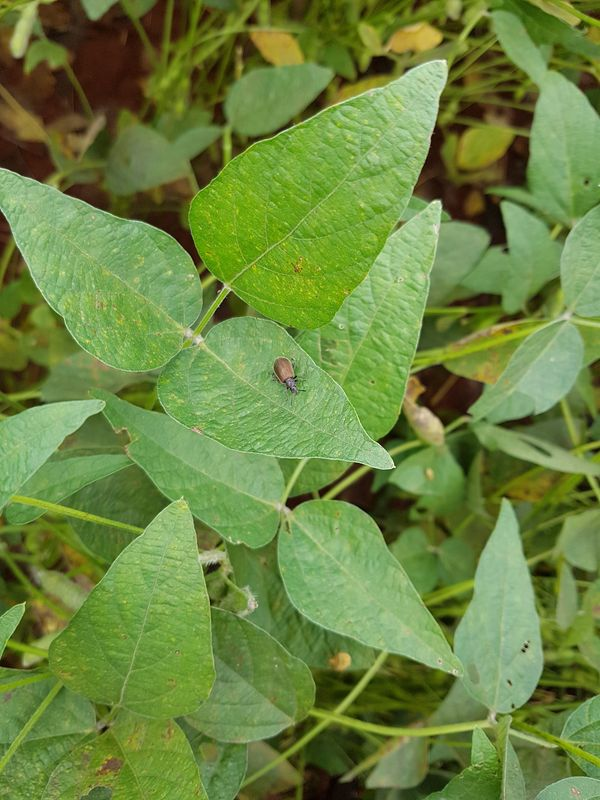Euschistus_heros_ninfa: (321, 646, 357, 680)
Lagria_villosa: (263, 352, 310, 405)
